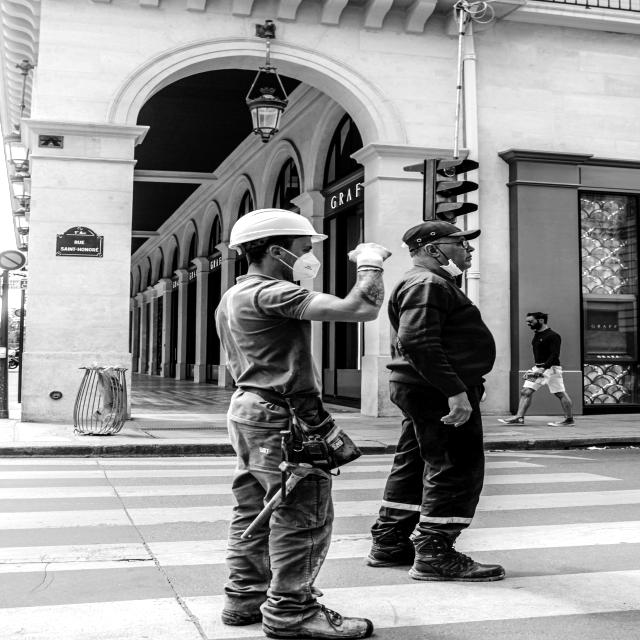No-Boots: (263, 601, 386, 640)
No-Vest: (387, 268, 502, 395), (216, 280, 321, 396)
